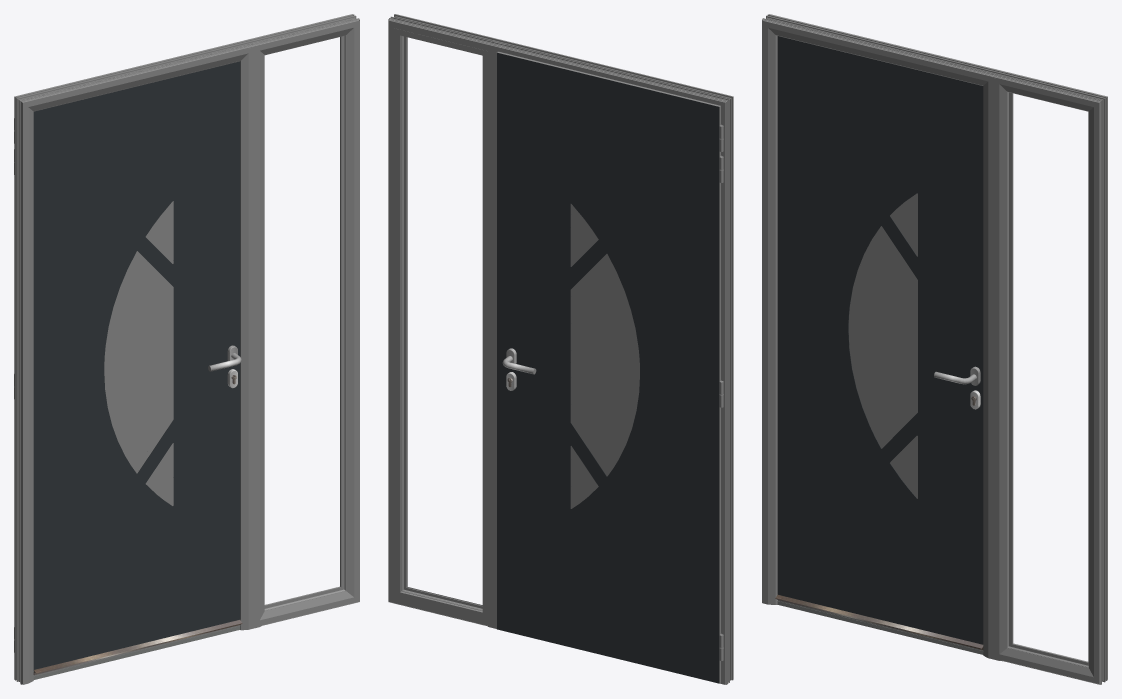
The picture shows the model from 3 angles, left to right: view 1: azimuth 30°, elevation 25°; view 2: azimuth 150°, elevation 25°; view 3: azimuth 330°, elevation 25°; orthographic projection.
Parts seen in each view (by area): view 1: bloco_092, Rectangle002, Line004, Vidro Porta, Object, Object001, Line005, Rectangle005, Rectangle003; view 2: bloco_092, Rectangle002, Vidro Porta, Rectangle003, Line004, Object001, Rectangle004, Object; view 3: bloco_092, Rectangle002, Line004, Vidro Porta, Object001, Object, Line005, Rectangle003, Rectangle005.
Boxes of the visible parts, <box> form: bloco_092: <box>33,61,240,671</box>; Rectangle002: <box>14,14,359,684</box>; Line004: <box>240,46,264,630</box>; Vidro Porta: <box>104,201,173,505</box>; Object: <box>33,35,346,680</box>; Object001: <box>264,36,344,608</box>; Line005: <box>33,620,242,674</box>; Rectangle005: <box>33,625,240,679</box>; Rectangle003: <box>264,37,340,605</box>; bloco_092: <box>497,52,719,683</box>; Rectangle002: <box>388,14,733,684</box>; Vidro Porta: <box>570,204,639,508</box>; Rectangle003: <box>394,28,487,619</box>; Line004: <box>488,41,504,628</box>; Object001: <box>401,36,482,610</box>; Rectangle004: <box>496,51,720,683</box>; Object: <box>404,36,482,608</box>; bloco_092: <box>777,36,983,644</box>; Rectangle002: <box>762,14,1107,684</box>; Line004: <box>983,77,1007,661</box>; Vidro Porta: <box>848,193,917,498</box>; Object001: <box>1007,92,1088,665</box>; Object: <box>776,35,1088,667</box>; Line005: <box>775,595,983,649</box>; Rectangle003: <box>1012,93,1087,662</box>; Rectangle005: <box>777,600,983,654</box>.
Bounding box in the file's own units: 1307 × 2150 × 192.
7 materials, 4 textured.
